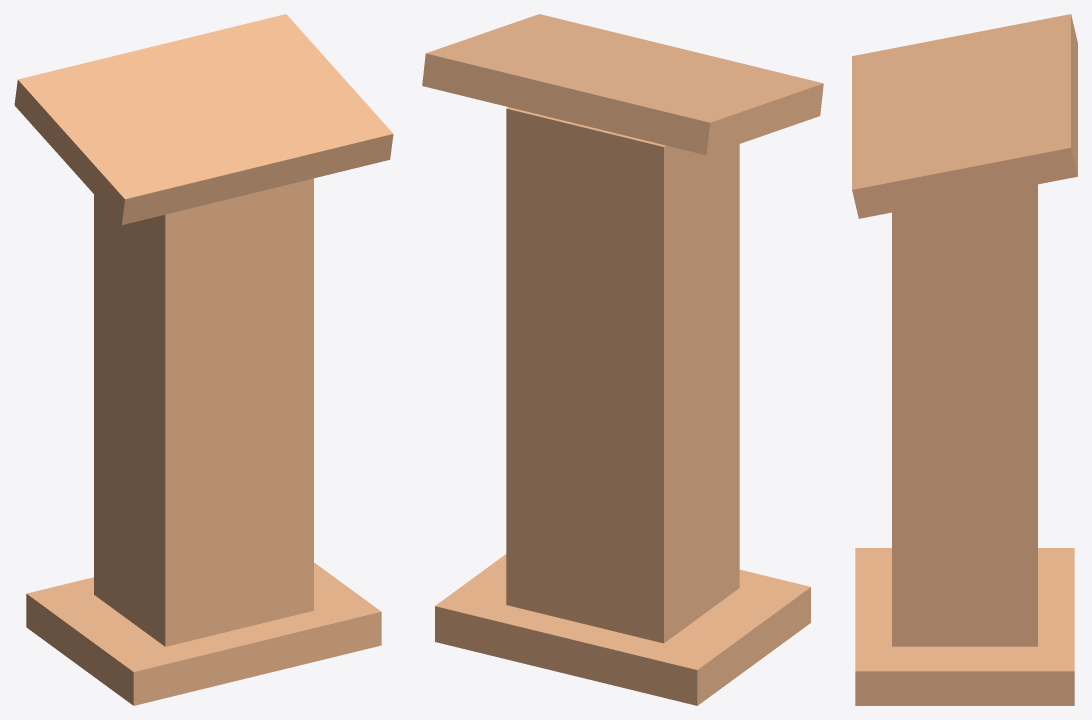
3 renders of one model, left to right at view 1: azimuth 30°, elevation 25°; view 2: azimuth 150°, elevation 25°; view 3: azimuth 270°, elevation 25°, orthographic. The views are drawn at different scales.
Parts seen in each view (by area): view 1: Body, Reading top, Foot; view 2: Body, Reading top, Foot; view 3: Body, Reading top, Foot.
Part boxes in pixels (x1,y1,x2,y2): Body: (94, 178, 313, 646); Reading top: (14, 14, 393, 224); Foot: (26, 562, 381, 705); Body: (506, 107, 739, 643); Reading top: (422, 14, 823, 155); Foot: (435, 554, 810, 705); Body: (892, 184, 1037, 646); Reading top: (852, 14, 1077, 218); Foot: (855, 548, 1074, 705).
Size of the model in its own units: 0.5525 by 1.09 by 0.3943.
Materials: 1 (1 with a texture image).
